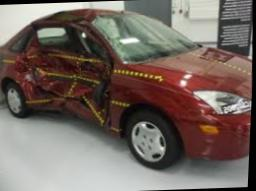Door: (14, 17, 135, 133)
